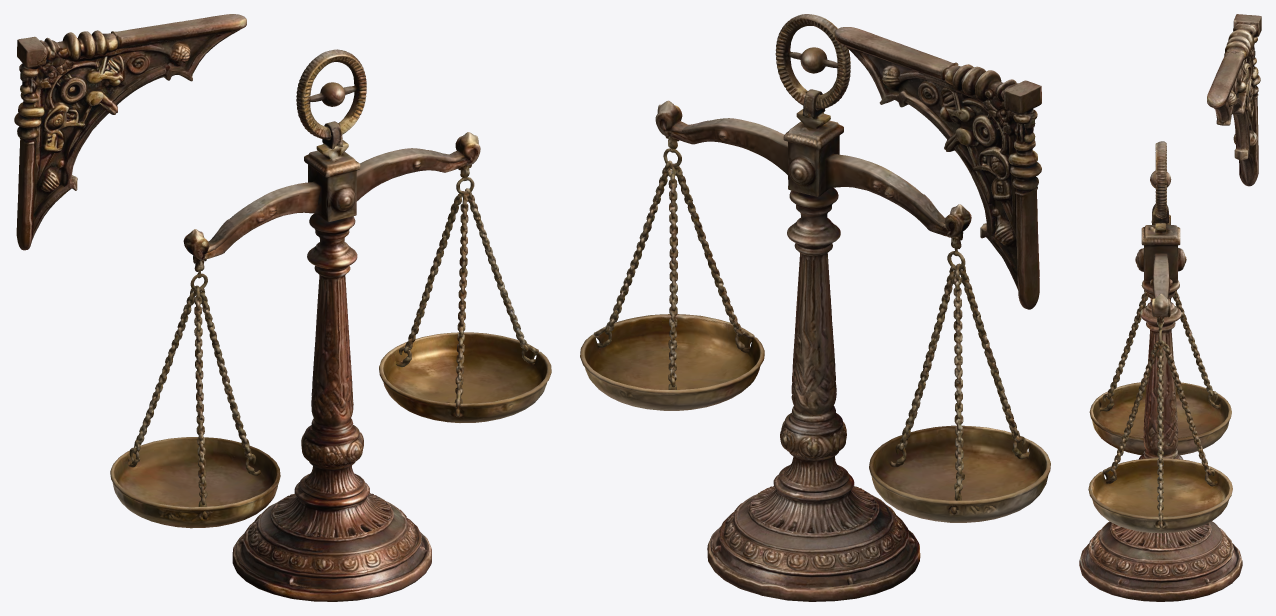
File: scales.glb
The picture shows the model from 3 angles, left to right: view 1: azimuth 30°, elevation 25°; view 2: azimuth 150°, elevation 25°; view 3: azimuth 270°, elevation 25°; orthographic projection. The views are drawn at different scales.
Visible parts, largest first — view 1: tripo_node_c6ae8cdb-5de5-4840-9dd6-b4d6cc3044bc; view 2: tripo_node_c6ae8cdb-5de5-4840-9dd6-b4d6cc3044bc; view 3: tripo_node_c6ae8cdb-5de5-4840-9dd6-b4d6cc3044bc.
Boxes of the visible parts, x1,y1,x2,y2 form: tripo_node_c6ae8cdb-5de5-4840-9dd6-b4d6cc3044bc: (14,14,551,601); tripo_node_c6ae8cdb-5de5-4840-9dd6-b4d6cc3044bc: (580,14,1050,601); tripo_node_c6ae8cdb-5de5-4840-9dd6-b4d6cc3044bc: (1079,14,1261,601).
Size of the model in its own units: 0.8488 by 0.929 by 0.3402.
1 material, 1 textured.
